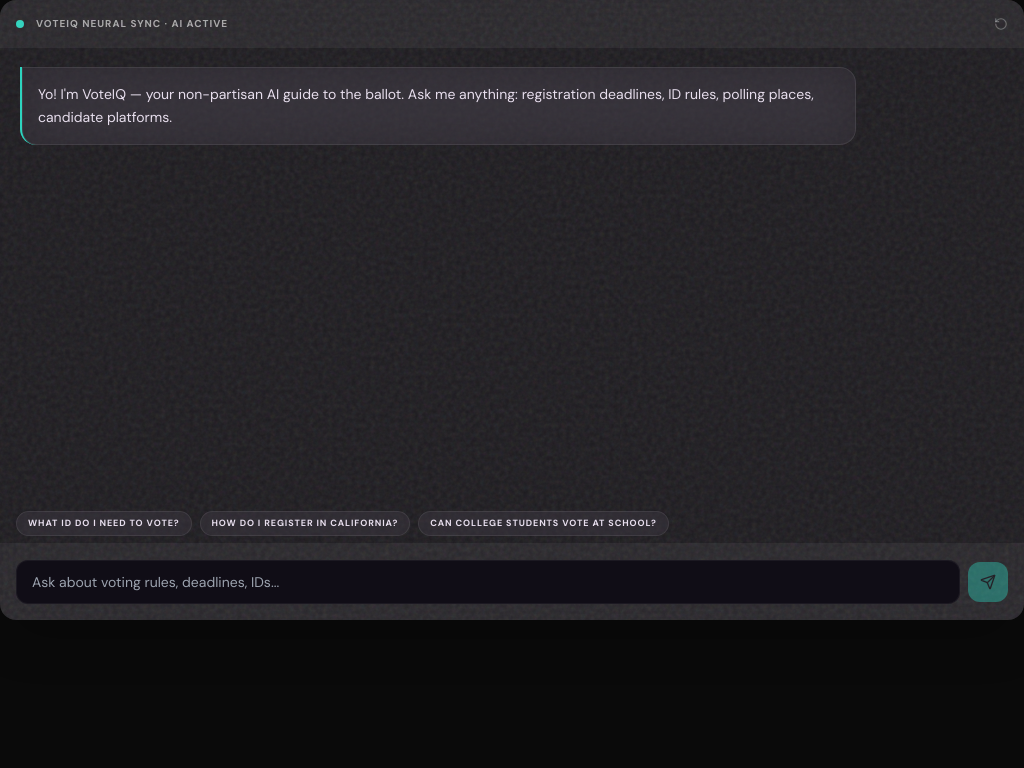
it: ChatAssistant component › API integration › displays AI reply in the chat after successful fetch
Type "How to register?" into the field with placeholder "Ask about voting rules, deadlines, IDs..." at (488, 582), box x1=16 y1=560 x2=960 y2=604
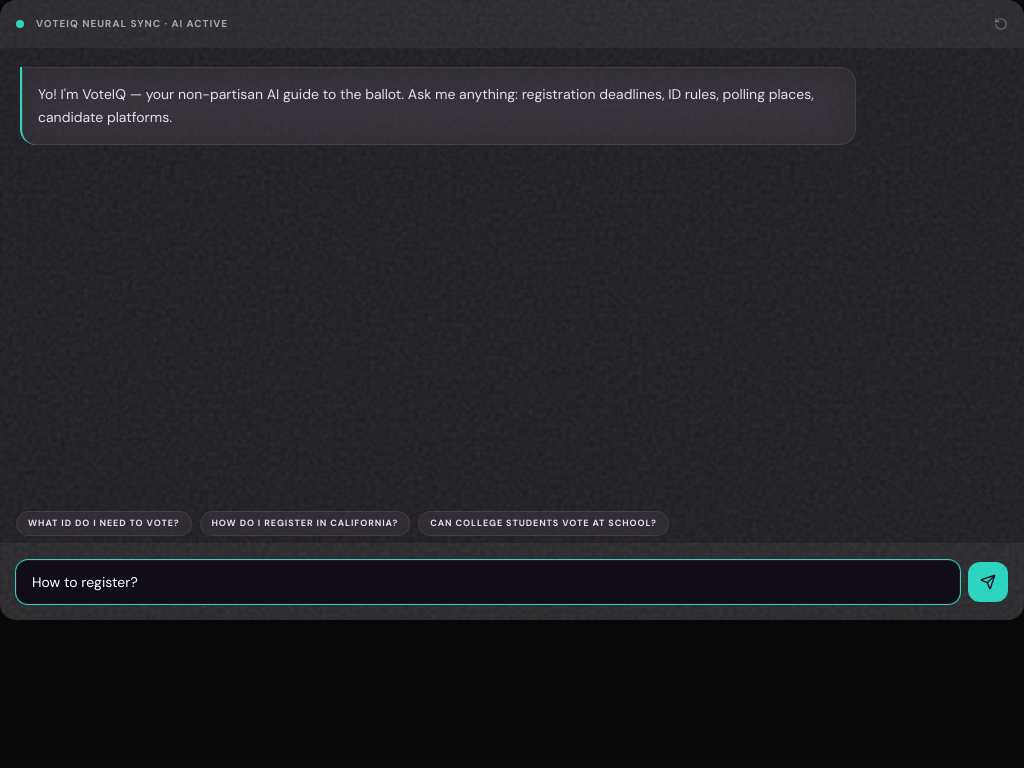
Submit the form with placeholder "Ask about voting rules", box x1=16 y1=560 x2=1008 y2=604
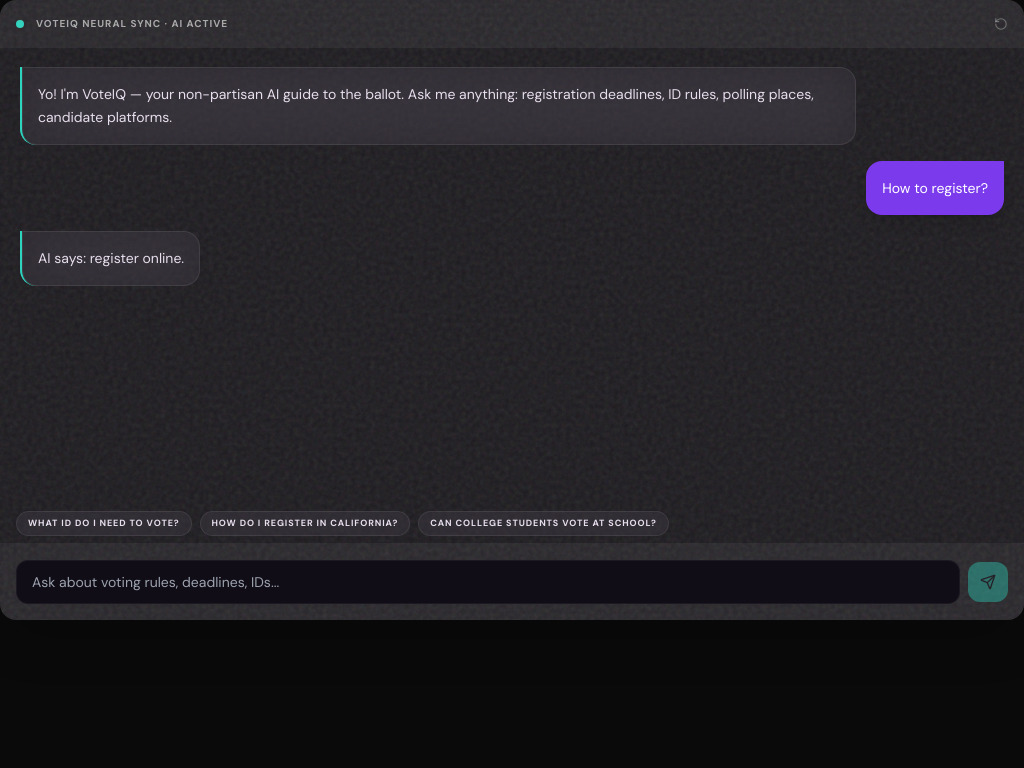
Check: the text "AI says: register online." is shown, box x1=20 y1=231 x2=200 y2=286
